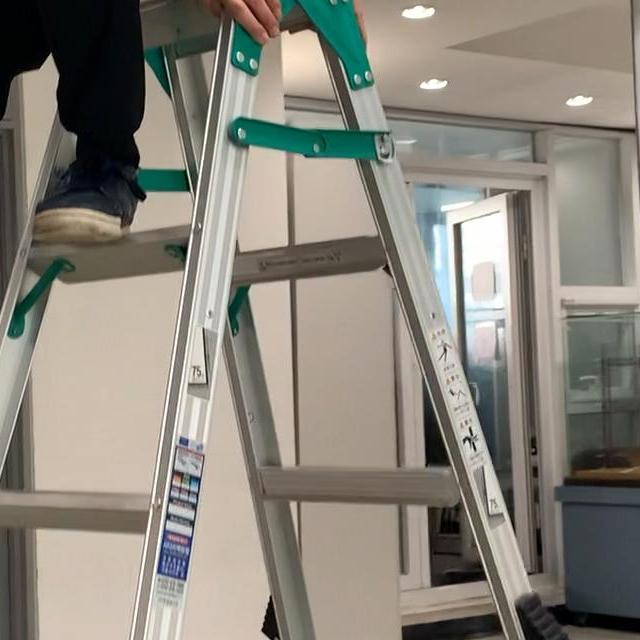Ladder: (0, 0, 640, 640)
Person: (0, 0, 554, 404)
